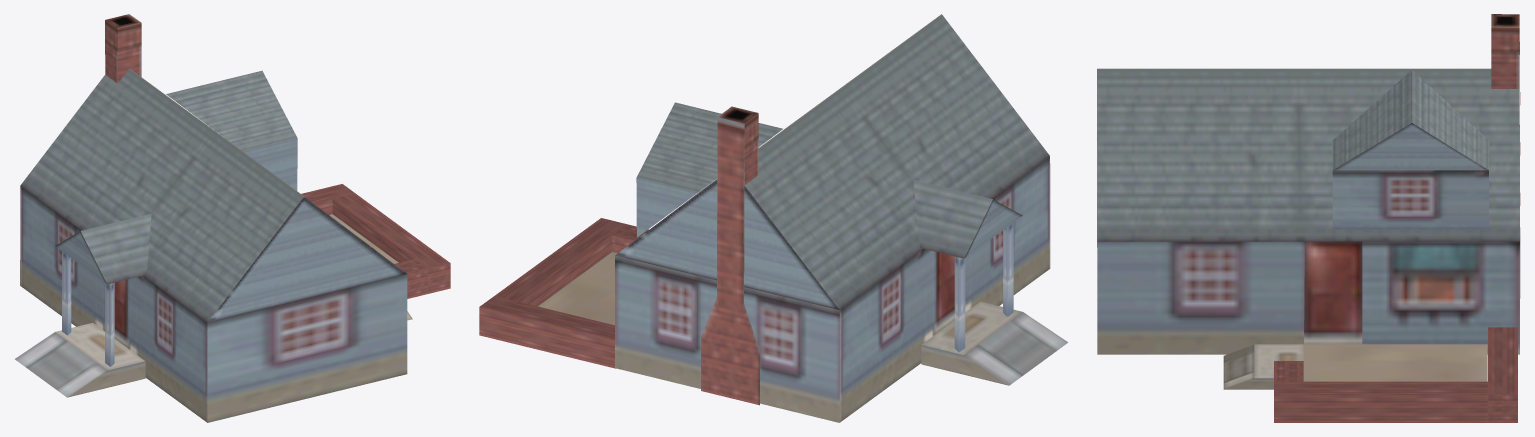
Rendered from house01.glb.
3 views of the same model, side by side, from view 1: azimuth 30°, elevation 25°; view 2: azimuth 150°, elevation 25°; view 3: azimuth 270°, elevation 25° (orthographic). The views are drawn at different scales.
Visible parts, largest first — view 1: house01; view 2: house01; view 3: house01.
Boxes of the visible parts, x1,y1,x2,y2 form: house01: (15,14,450,422); house01: (479,14,1067,422); house01: (1097,14,1520,422).
Size of the model in its own units: 2037 by 1203 by 1657.
Materials: 1 (1 with a texture image).
